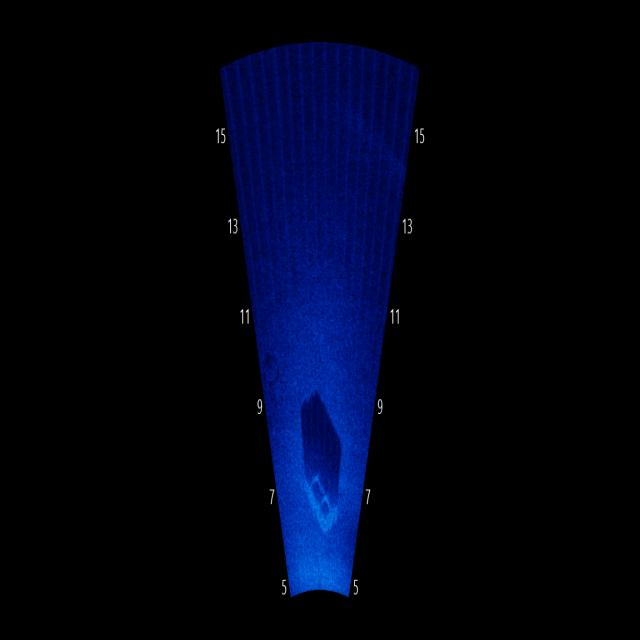square: (297, 450, 343, 537)
